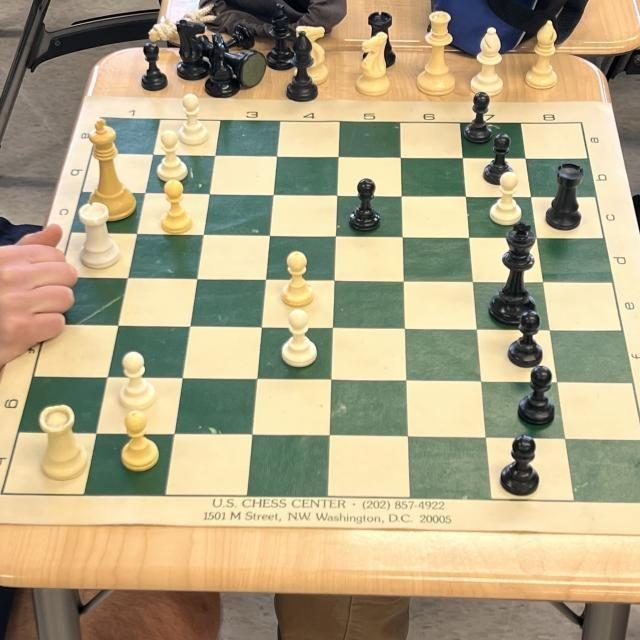black-bishop: (287, 31, 319, 101), (267, 1, 295, 70)
black-king: (489, 221, 539, 325)
black-knight: (204, 32, 240, 97), (175, 19, 210, 80)
black-pawn: (498, 437, 540, 497), (516, 365, 556, 426), (506, 312, 545, 368), (349, 178, 382, 230), (483, 134, 515, 186), (462, 92, 493, 144), (140, 40, 168, 91)
black-rook: (544, 163, 586, 232), (361, 10, 396, 70)
white-bishop: (471, 27, 504, 97), (526, 22, 558, 90)
white-king: (86, 116, 137, 220)
white-knight: (294, 25, 329, 86), (356, 32, 389, 96)
white-pawn: (120, 407, 159, 472), (156, 177, 195, 235), (281, 308, 318, 368), (119, 351, 157, 409), (280, 252, 316, 308), (490, 170, 522, 225), (156, 128, 188, 182), (178, 93, 209, 147)
white-queen: (418, 10, 457, 98)
white-rook: (38, 404, 89, 481), (79, 202, 122, 270)
